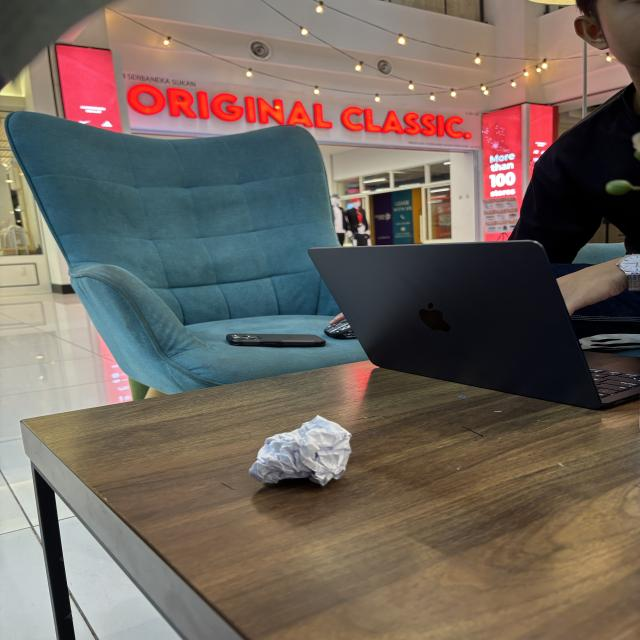crumpled_paper: (245, 407, 354, 494)
